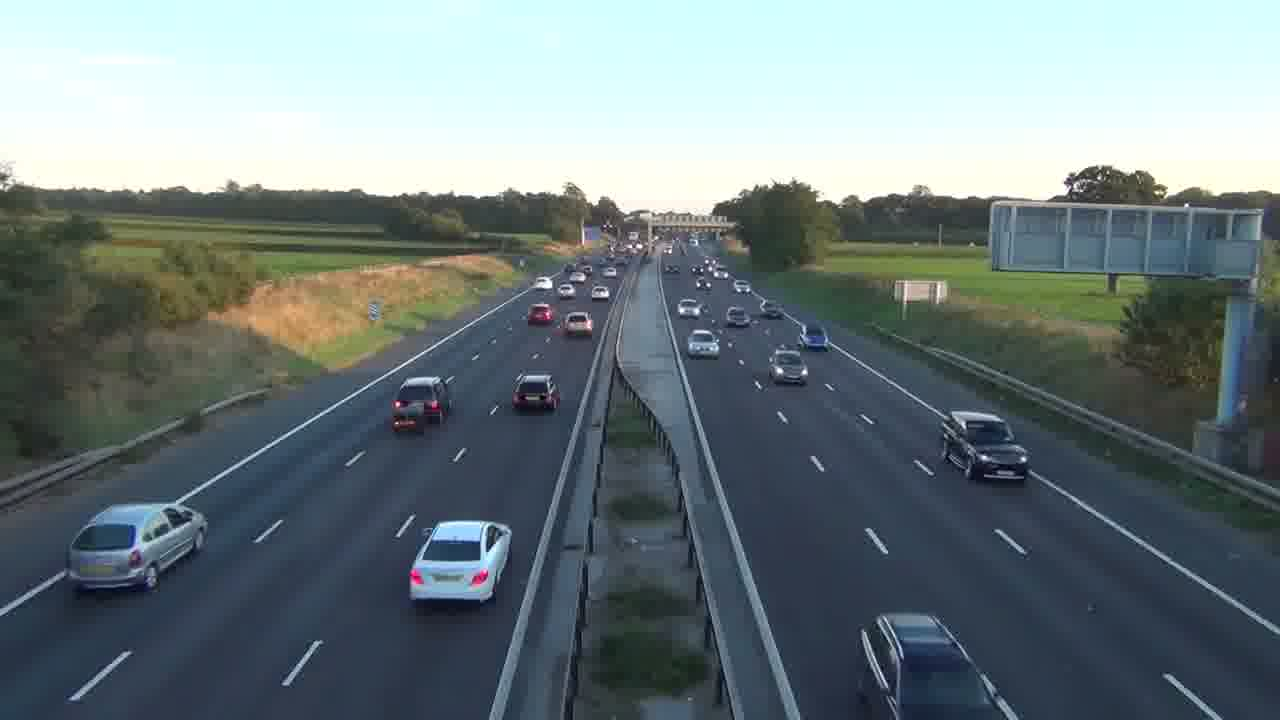car: (855, 611, 1010, 718), (66, 501, 208, 594), (407, 519, 512, 608), (938, 409, 1030, 482), (392, 376, 451, 425), (512, 371, 561, 413), (767, 346, 809, 387), (686, 329, 721, 359), (561, 311, 593, 338), (527, 303, 555, 327), (677, 297, 702, 317)
